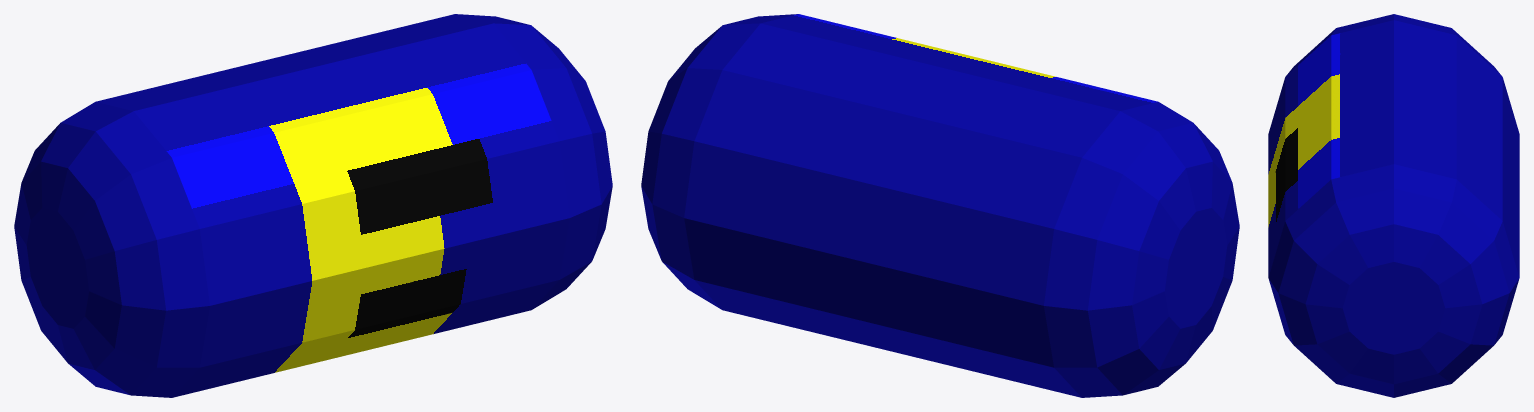
File: powerup_e.glb
The picture shows the model from 3 angles, left to right: view 1: azimuth 30°, elevation 25°; view 2: azimuth 150°, elevation 25°; view 3: azimuth 270°, elevation 25°; orthographic projection. The views are drawn at different scales.
Parts seen in each view (by area): view 1: Cylinder; view 2: Cylinder; view 3: Cylinder.
Part boxes in pixels (x1=…): Cylinder: x1=14, y1=14, x2=612, y2=397; Cylinder: x1=641, y1=14, x2=1239, y2=397; Cylinder: x1=1268, y1=14, x2=1519, y2=397.
Size of the model in its own units: 0.162 by 0.084 by 0.084.
1 material, 1 textured.
